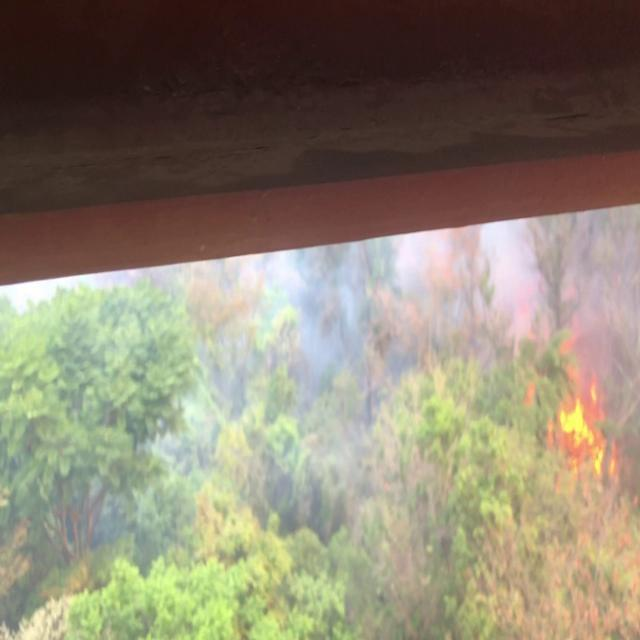Fire: (550, 330, 617, 473)
